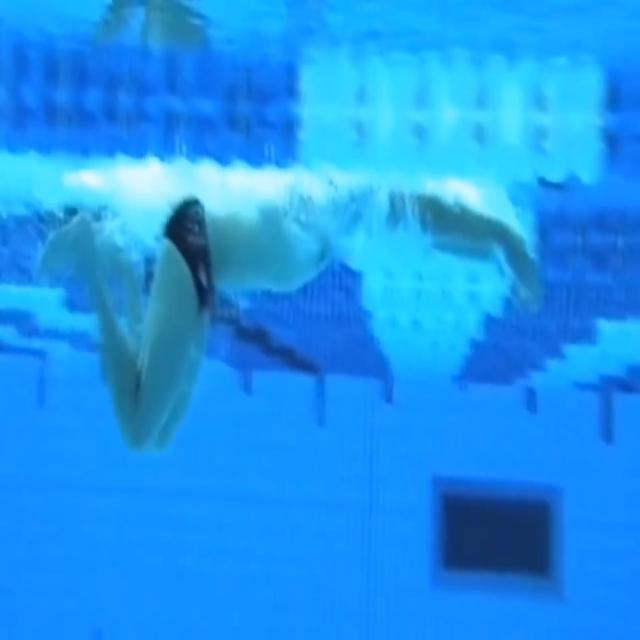Swimming: (39, 186, 542, 452)
